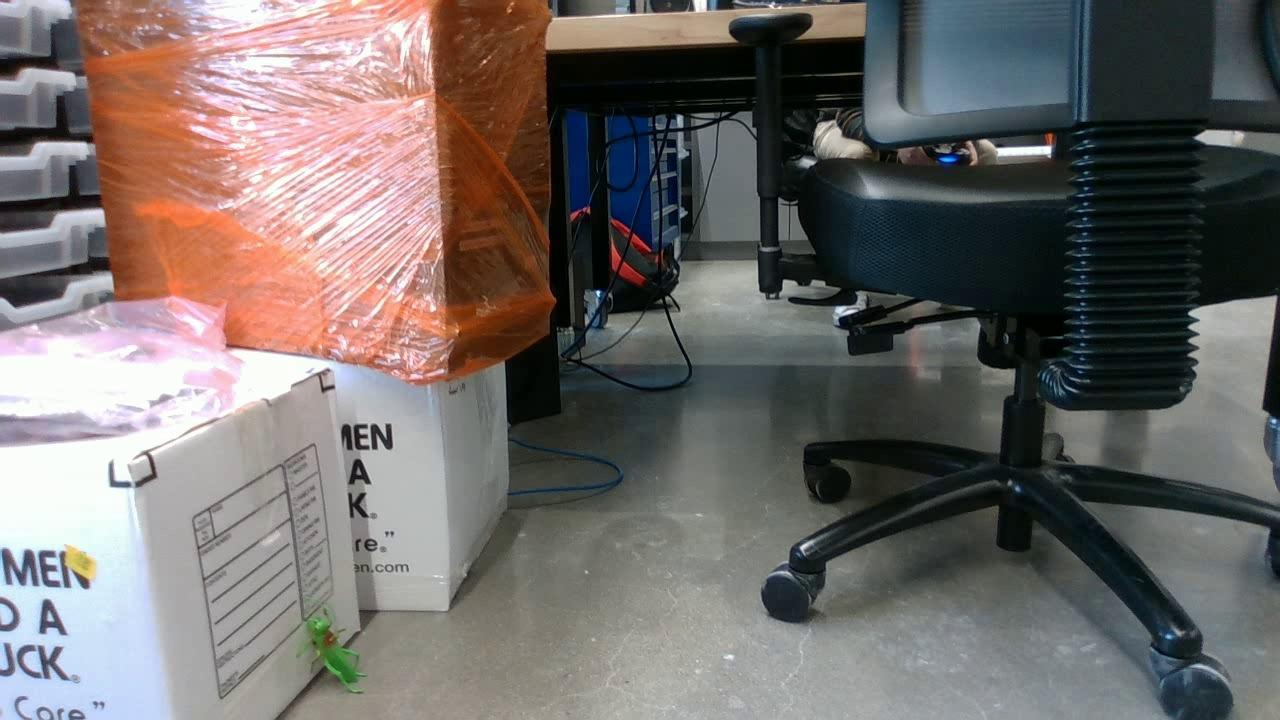grasshopper: (296, 612, 365, 693)
